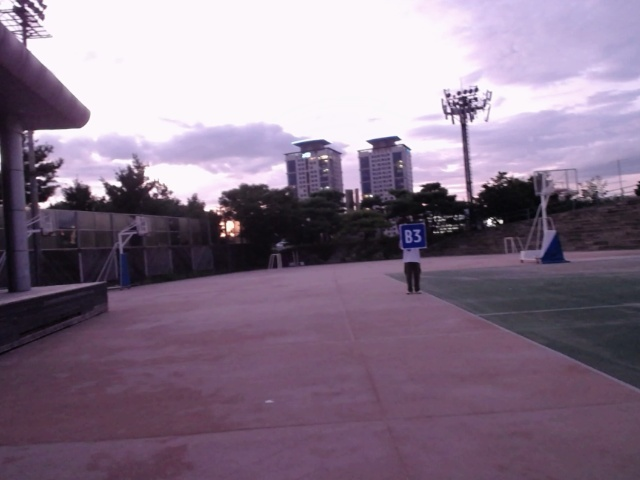delivery_b3: (399, 223, 427, 250)
